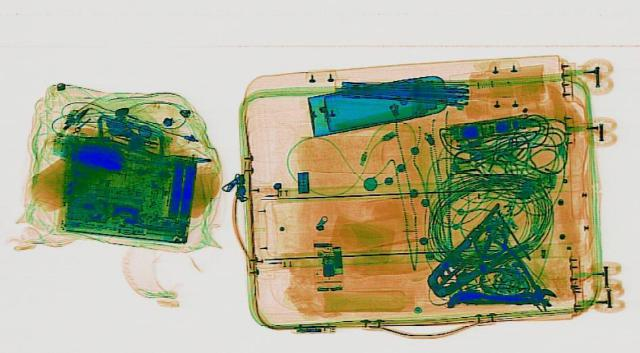Pliers: (403, 201, 549, 301)
Wrench: (464, 287, 556, 306)
